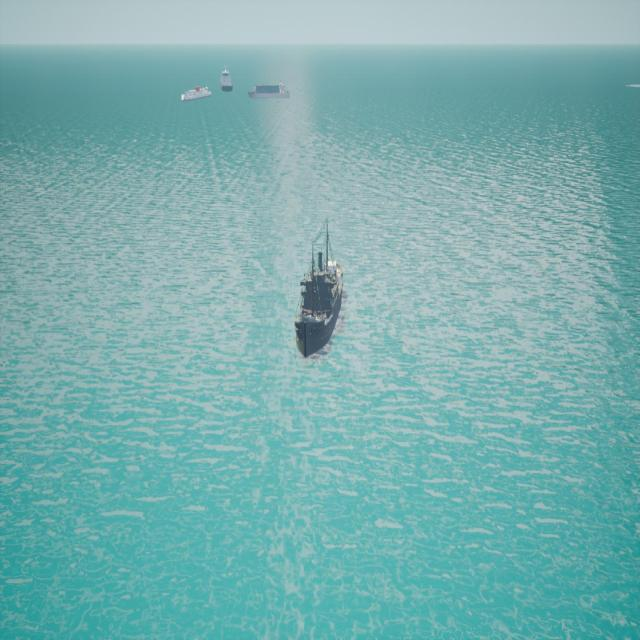fishing ship: (296, 223, 344, 360), (249, 82, 289, 100), (182, 87, 214, 103), (222, 68, 235, 93)
